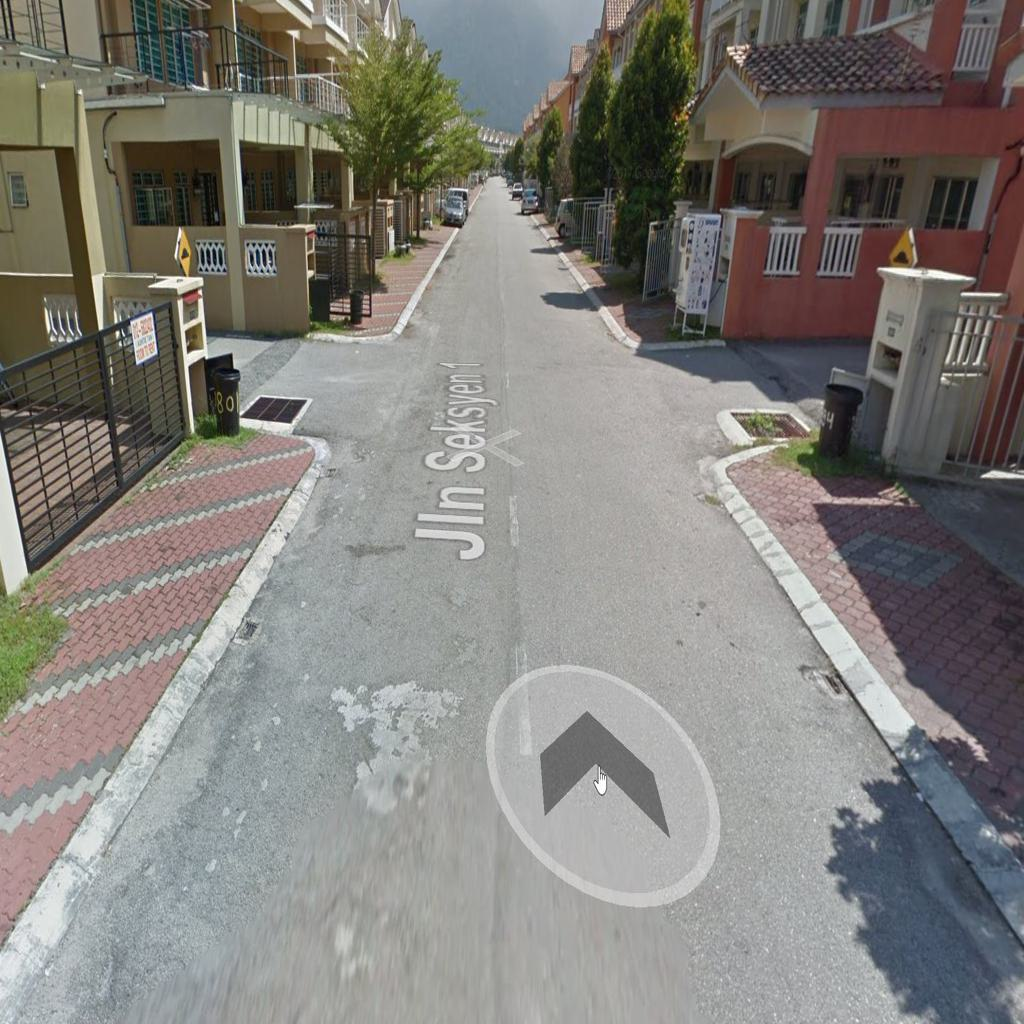Junction: (599, 303, 855, 477), (206, 290, 413, 471)
